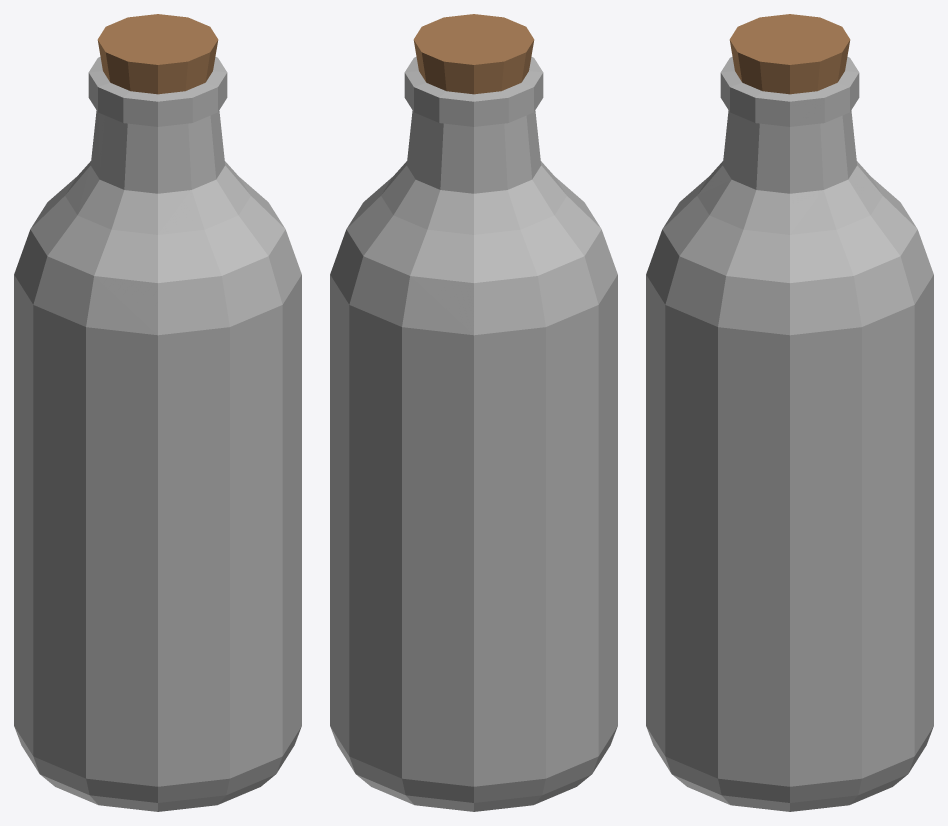
Rendered from milkbottle.glb.
3 renders of one model, left to right at view 1: azimuth 30°, elevation 25°; view 2: azimuth 150°, elevation 25°; view 3: azimuth 270°, elevation 25°, orthographic.
Parts seen in each view (by area): view 1: contract; view 2: contract; view 3: contract.
Boxes of the visible parts, <box> form: contract: <box>14,14,301,811</box>; contract: <box>330,14,617,811</box>; contract: <box>646,14,933,811</box>.
Size of the model in its own units: 0.101 by 0.28 by 0.101.
